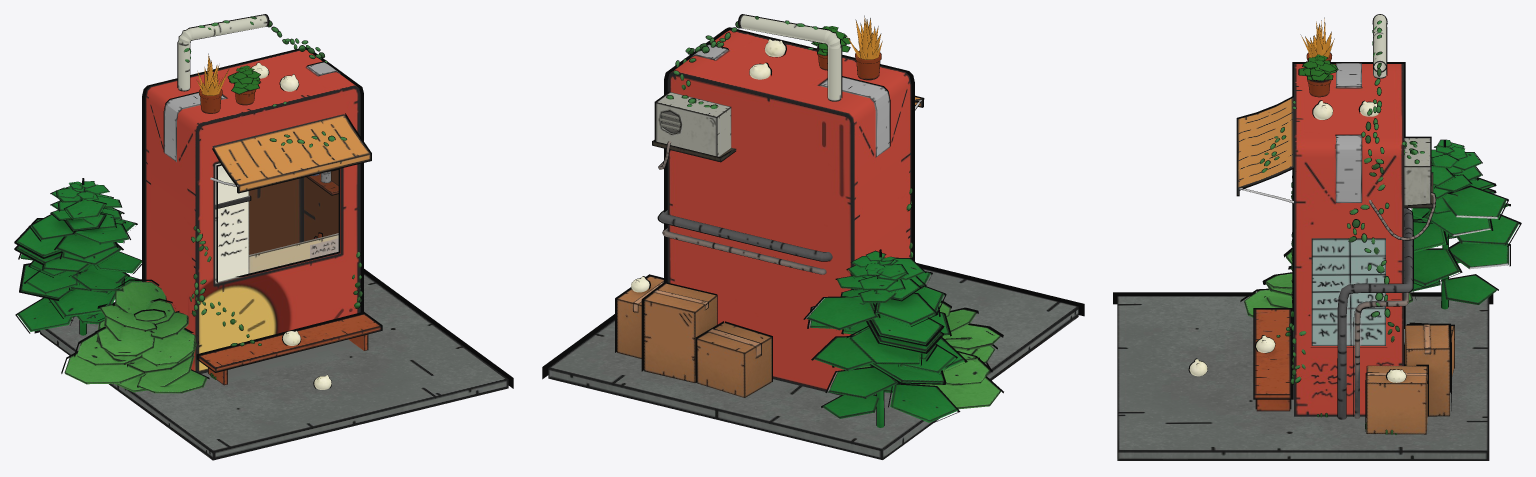
File: asset.gltf
The picture shows the model from 3 angles, left to right: view 1: azimuth 30°, elevation 25°; view 2: azimuth 150°, elevation 25°; view 3: azimuth 270°, elevation 25°; orthographic projection. The views are drawn at different scales.
Visible parts, largest first — view 1: Object_6, Object_5, Object_4, Object_3; view 2: Object_5, Object_6, Object_4, Object_3; view 3: Object_6, Object_5, Object_4, Object_3.
Part boxes in pixels (x1,y1,x2,y2): Object_6: [16, 15, 508, 460]; Object_5: [17, 49, 360, 393]; Object_4: [14, 14, 371, 388]; Object_3: [14, 65, 513, 388]; Object_5: [631, 18, 1000, 427]; Object_6: [548, 15, 1078, 459]; Object_4: [631, 14, 970, 425]; Object_3: [542, 26, 1084, 424]; Object_6: [1117, 15, 1519, 460]; Object_5: [1189, 19, 1517, 434]; Object_4: [1188, 14, 1495, 434]; Object_3: [1113, 55, 1521, 431].
Size of the model in its own units: 12.4 by 11.67 by 12.06.
2 materials, 1 textured.
